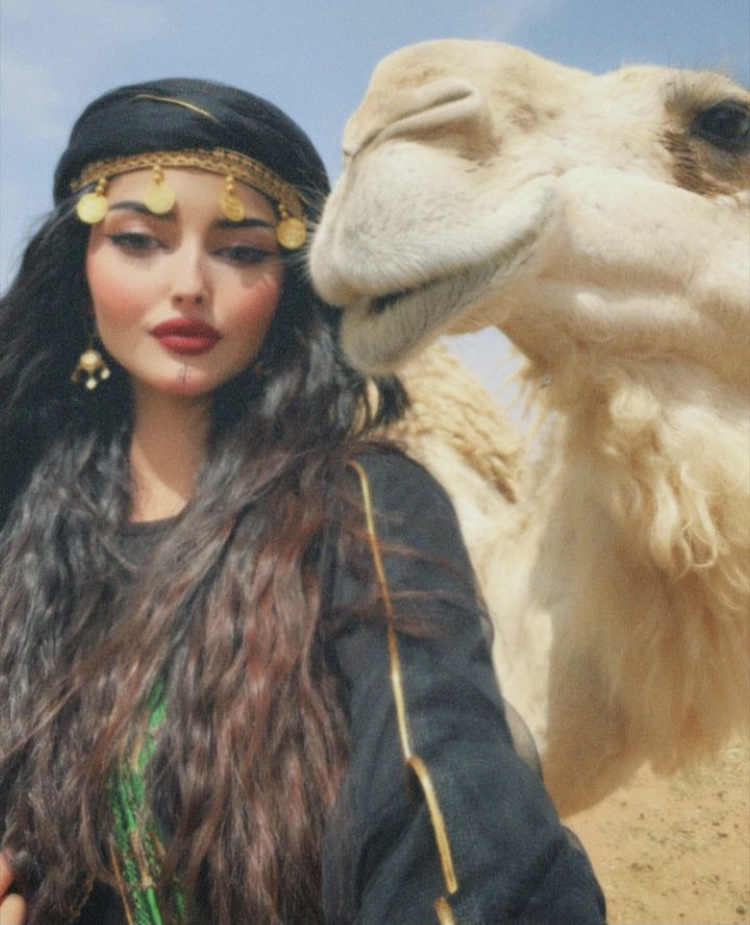Saudi_Founding_Day: (1, 72, 612, 925)
